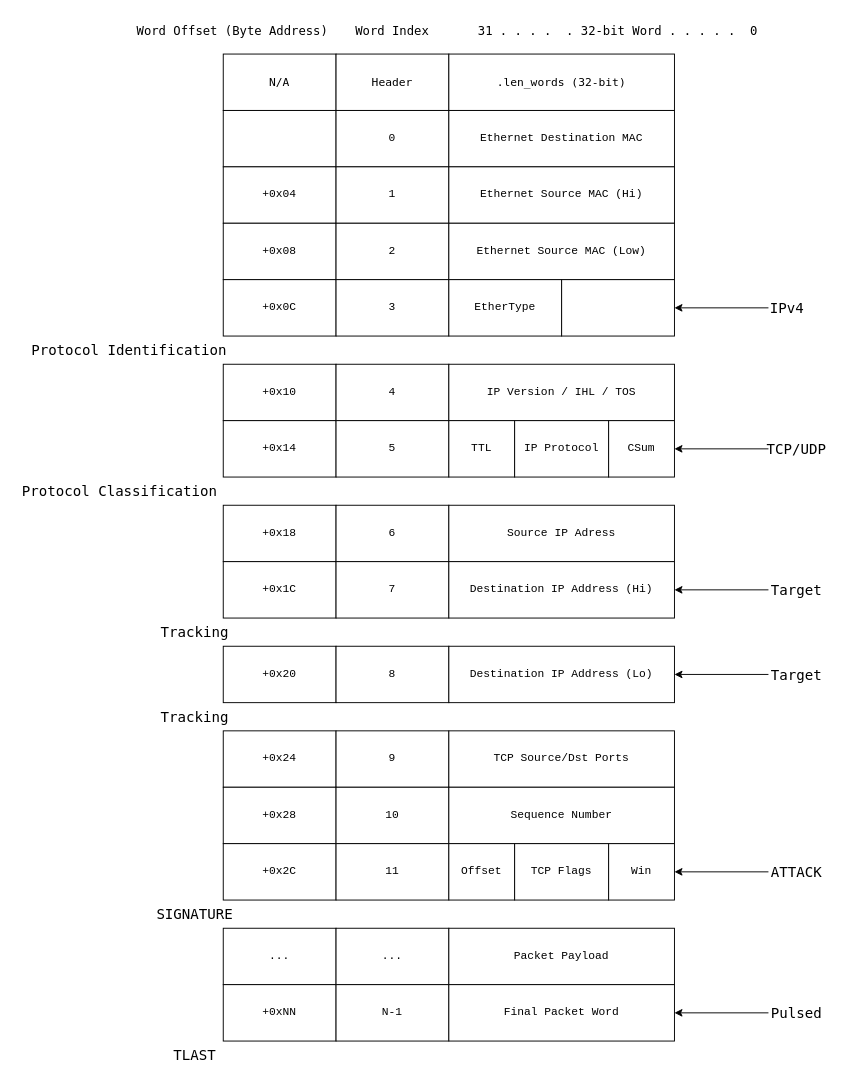
The diagram is 850 pixels wide and 1085 high, and some of its shapes have lost their labels. Here are the shapes that lost their labels. From the top down, the centre of each, then its label:
At point (279, 138): "+0x00".
At point (617, 307): "Padding".
